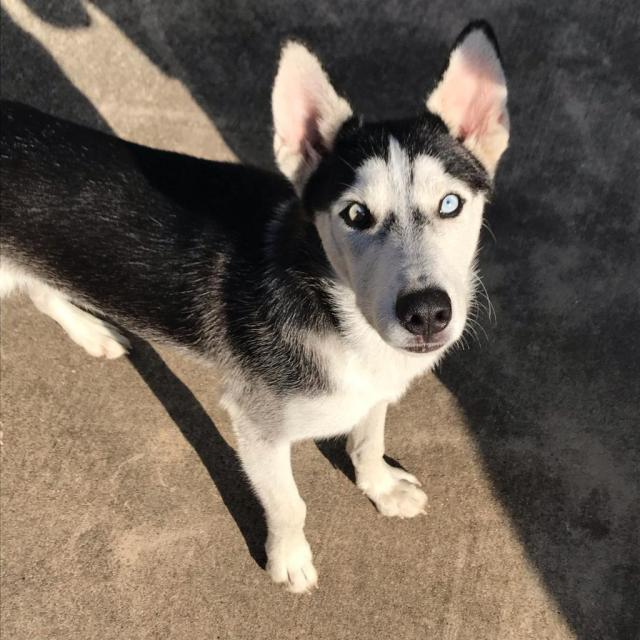siberian_husky_dog: (252, 9, 525, 393)
